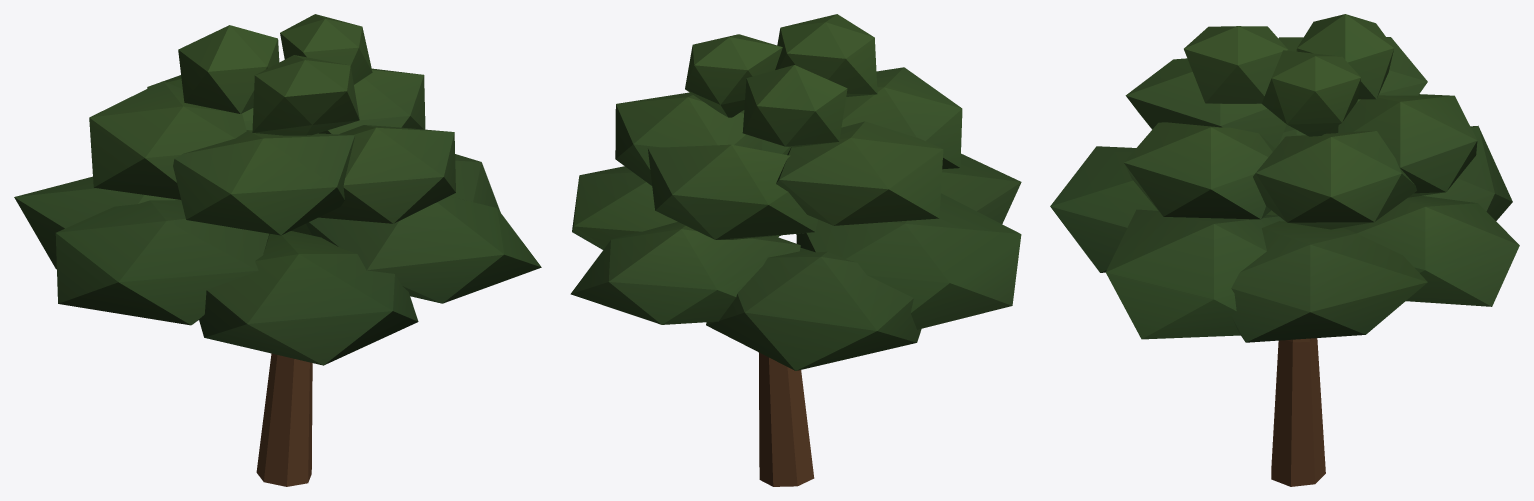
The model's file is cay_bang.glb.
The picture shows the model from 3 angles, left to right: view 1: azimuth 30°, elevation 25°; view 2: azimuth 150°, elevation 25°; view 3: azimuth 270°, elevation 25°; orthographic projection.
Visible parts, largest first — view 1: tan, than; view 2: tan, than; view 3: tan, than.
Boxes of the visible parts, box(x1,y1,x2,y2) form: tan: box(14, 14, 541, 365); than: box(256, 353, 312, 486); tan: box(570, 14, 1021, 370); than: box(758, 352, 814, 486); tan: box(1050, 14, 1519, 342); than: box(1271, 338, 1325, 486).
Bounding box in the file's own units: 6.98 × 6.86 × 6.55.
